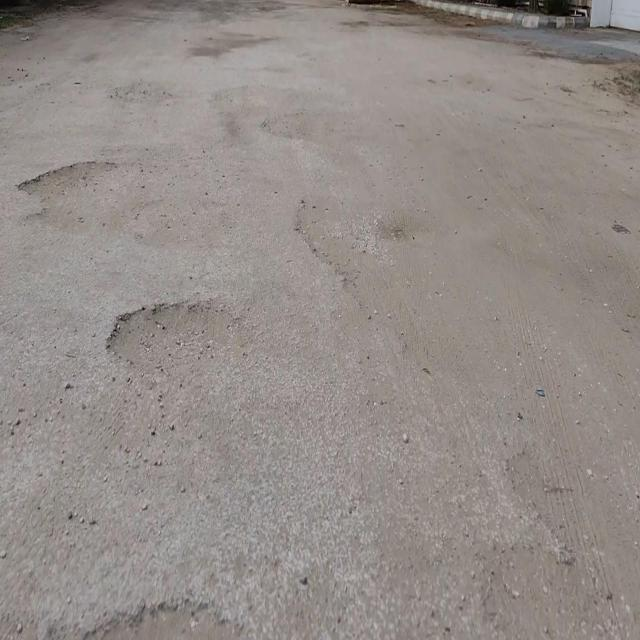Potholes: (106, 298, 238, 378)
